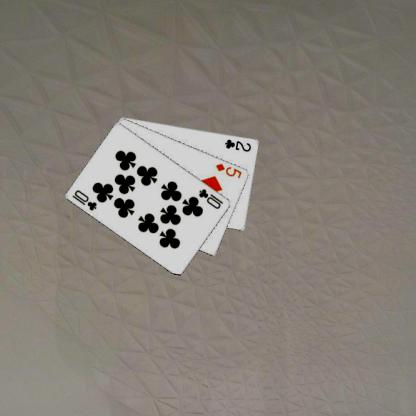10C: (69, 187, 99, 212), (196, 186, 225, 210)
2C: (223, 136, 252, 152)
5D: (213, 161, 243, 179)
